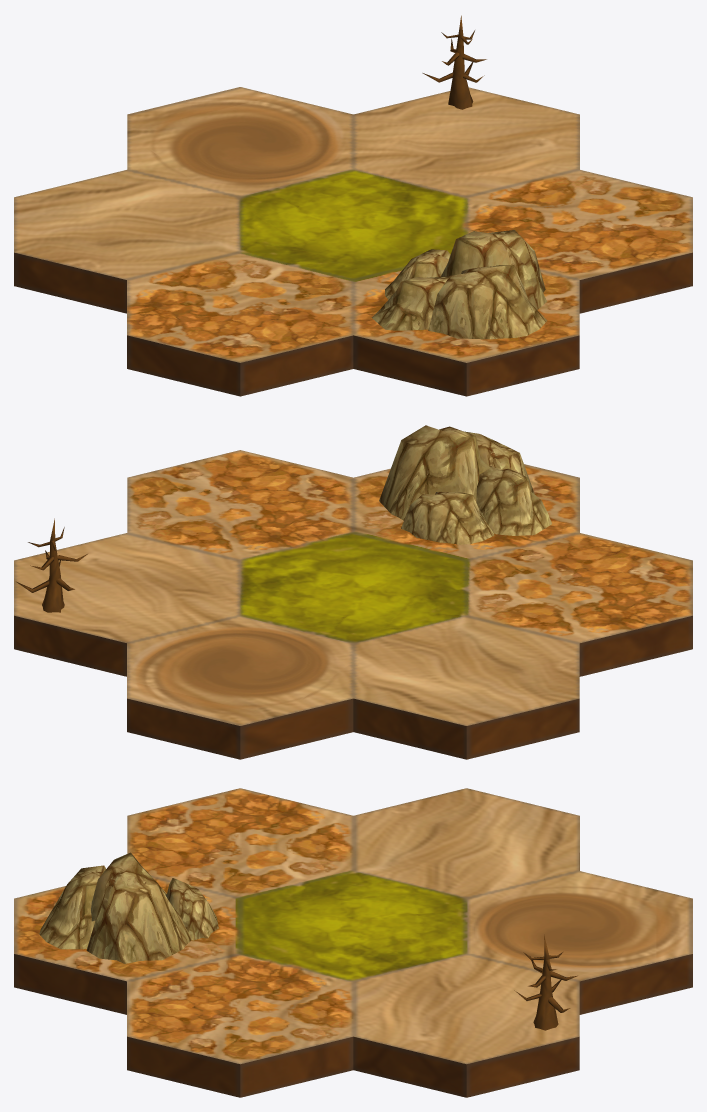
The model's file is Tile_Desert4.fbx.
The picture shows the model from 3 angles, top to bottom: view 1: azimuth 30°, elevation 25°; view 2: azimuth 150°, elevation 25°; view 3: azimuth 270°, elevation 25°; orthographic projection.
Parts seen in each view (by area): view 1: desertTile5, mountain12, mountain9, mountain10, dryTree2_03, mountain11; view 2: desertTile5, mountain9, mountain10, mountain11, dryTree2_03, mountain12; view 3: desertTile5, mountain9, mountain12, mountain11, dryTree2_03.
Part boxes in pixels (<box>): desertTile5: <box>14,87,692,396</box>; mountain12: <box>428,265,547,339</box>; mountain9: <box>441,230,546,309</box>; mountain10: <box>371,276,449,330</box>; dryTree2_03: <box>422,15,486,109</box>; mountain11: <box>385,249,450,299</box>; desertTile5: <box>14,450,692,759</box>; mountain9: <box>379,425,490,520</box>; mountain10: <box>476,466,551,535</box>; mountain11: <box>401,491,494,544</box>; dryTree2_03: <box>16,518,87,612</box>; mountain12: <box>465,431,534,493</box>; desertTile5: <box>14,788,692,1097</box>; mountain9: <box>86,852,191,963</box>; mountain12: <box>39,865,105,949</box>; mountain11: <box>165,878,218,940</box>; dryTree2_03: <box>514,934,577,1030</box>.
Size of the model in its own units: 128 by 26.95 by 133.
